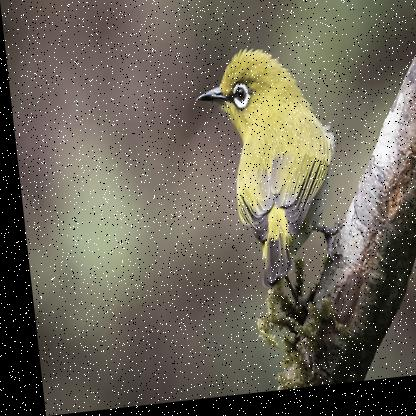Burung: (188, 47, 340, 298)
